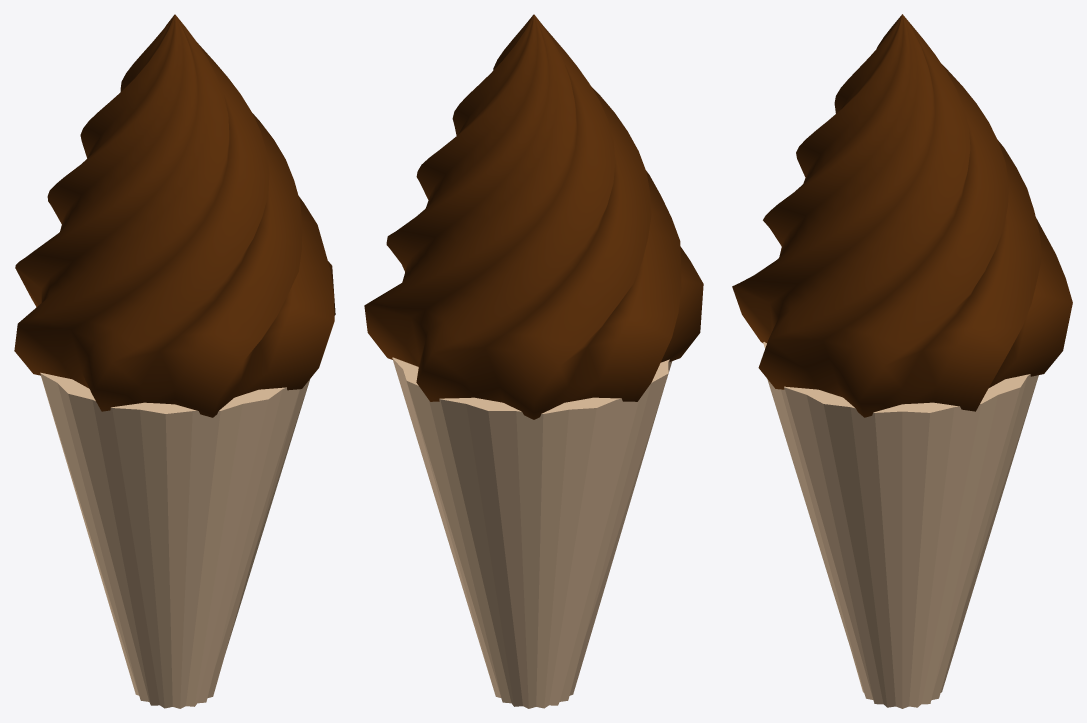
The model's file is icecream1J.fbx.
3 renders of one model, left to right at view 1: azimuth 30°, elevation 25°; view 2: azimuth 150°, elevation 25°; view 3: azimuth 270°, elevation 25°, orthographic.
Parts seen in each view (by area): view 1: icecream, icecreamcorn; view 2: icecream, icecreamcorn; view 3: icecream, icecreamcorn.
Part boxes in pixels (<box>): icecream: <box>14,14,335,417</box>; icecreamcorn: <box>40,372,309,708</box>; icecream: <box>364,14,703,419</box>; icecreamcorn: <box>392,357,672,708</box>; icecream: <box>732,14,1072,417</box>; icecreamcorn: <box>763,342,1038,708</box>.
Bounding box in the file's own units: 315 × 692 × 315.
